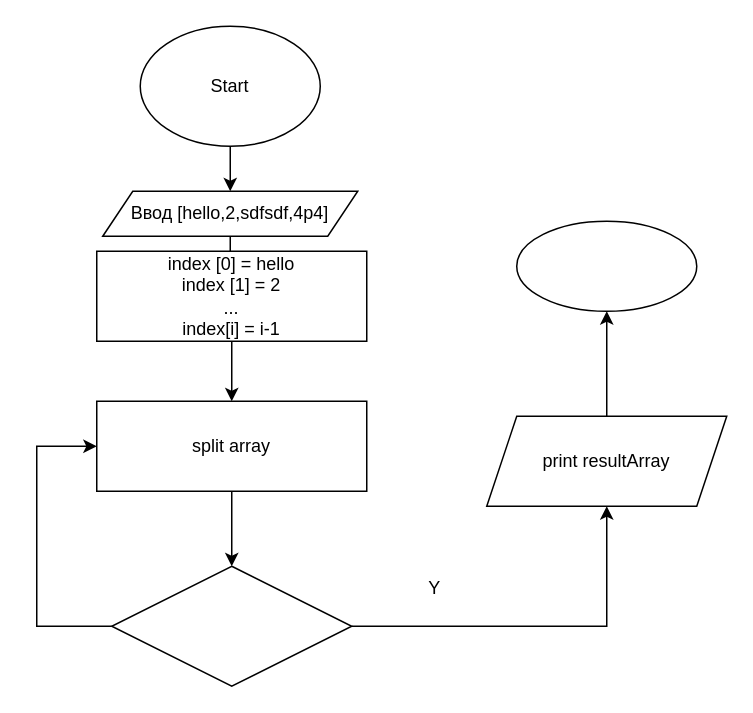
Some shapes in this 753 by 713 pixel diagram are drawn without their labels. The shapes that lost their labels are listed below. From the top down, each one's centre as x and y in pixels, then its label:
At point (606, 265): "finish".
At point (231, 625): "index.Length < 4".
